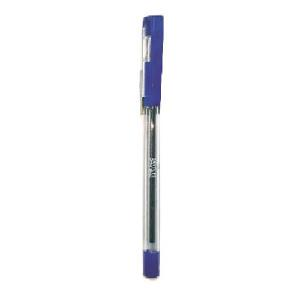pen: (134, 10, 171, 283)
